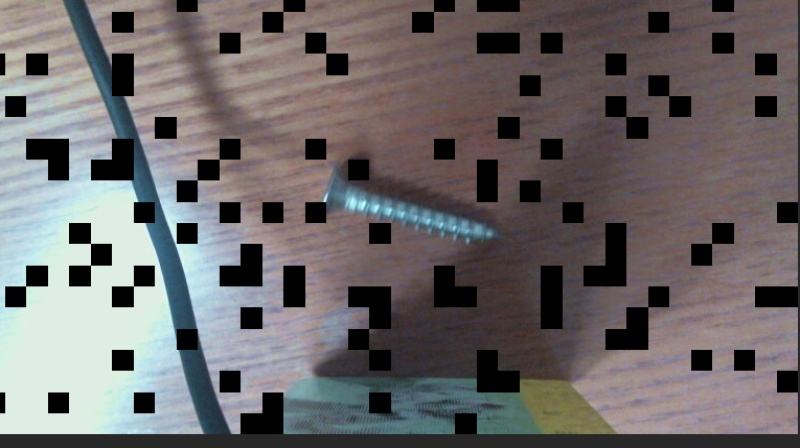S001: (311, 162, 510, 250)
